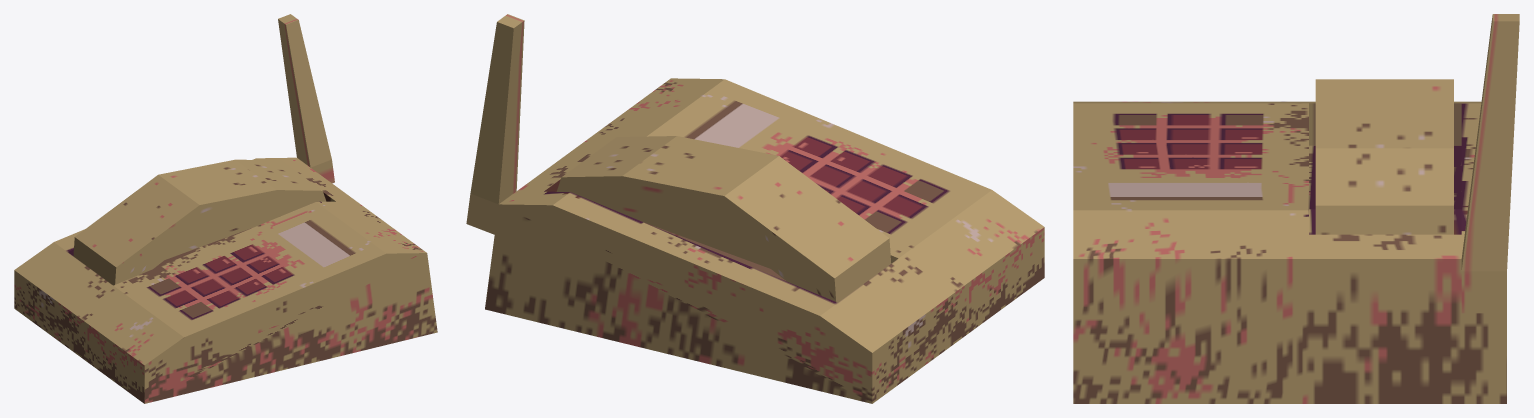
The model's file is telephone_entier.fbx.
The picture shows the model from 3 angles, left to right: view 1: azimuth 30°, elevation 25°; view 2: azimuth 150°, elevation 25°; view 3: azimuth 270°, elevation 25°; orthographic projection. The views are drawn at different scales.
Visible parts, largest first — view 1: phonestand, Cube.007; view 2: phonestand, Cube.007; view 3: phonestand, Cube.007.
Boxes of the visible parts, <box> form: phonestand: <box>14,14,437,403</box>; Cube.007: <box>73,159,326,285</box>; phonestand: <box>466,14,1044,403</box>; Cube.007: <box>556,136,891,302</box>; phonestand: <box>1073,14,1519,403</box>; Cube.007: <box>1315,79,1453,234</box>.
Bounding box in the file's own units: 113 × 78.92 × 85.81.
